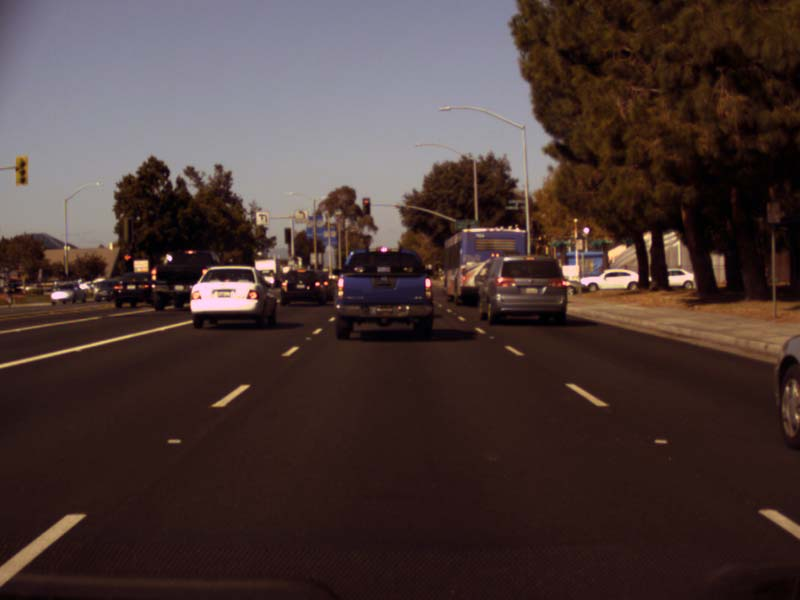Red: (121, 250, 133, 270), (362, 197, 369, 215)
